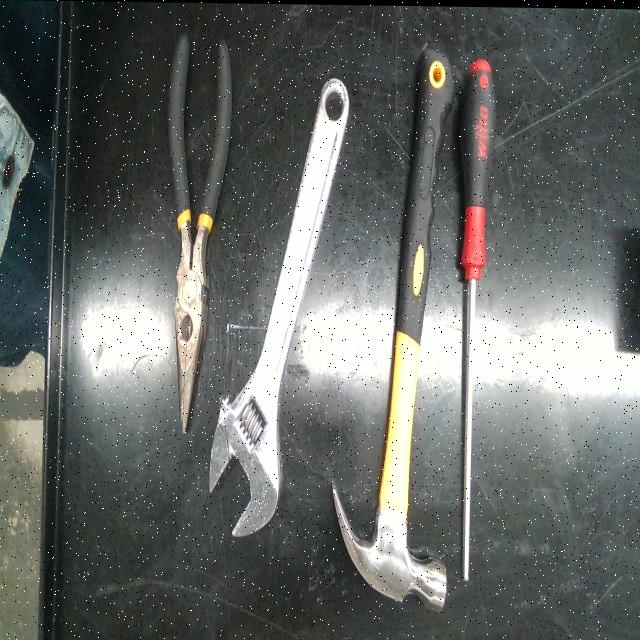Screwdriver: (461, 57, 495, 579)
